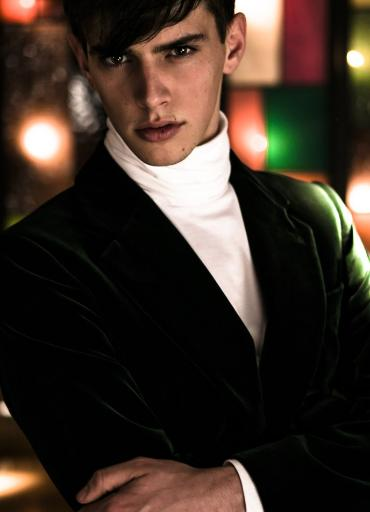left_eye: (160, 41, 203, 61)
left_lip_corner: (176, 119, 189, 133)
right_eye: (98, 52, 135, 68)
right_lip_corner: (132, 126, 143, 139)
